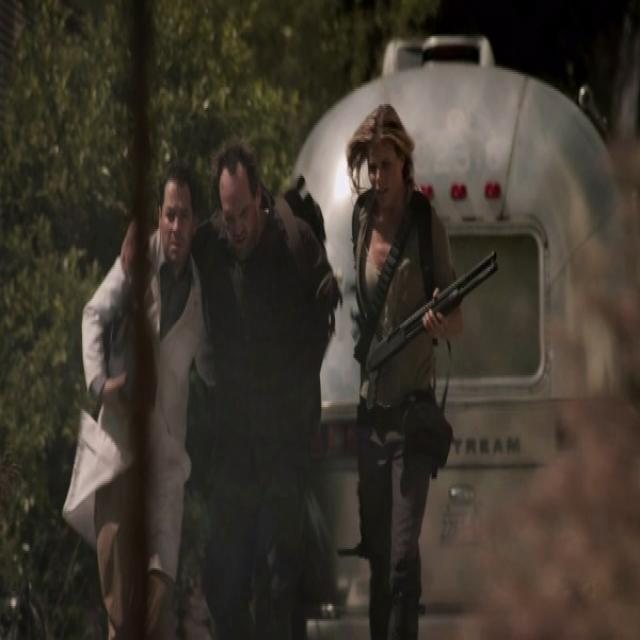rifle: (356, 246, 501, 414)
